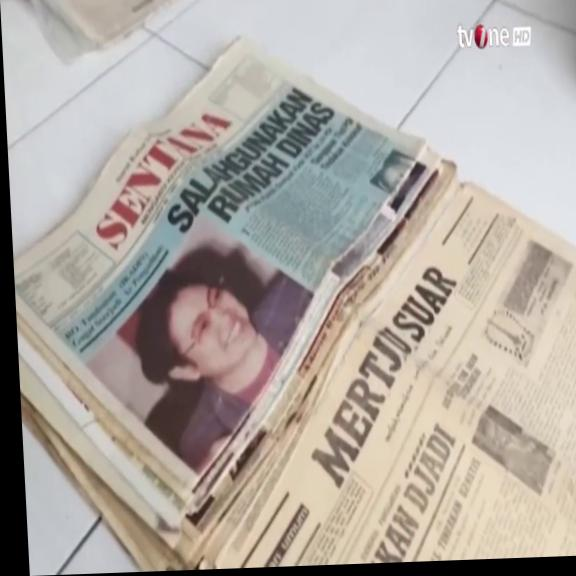Kertas: (14, 38, 576, 571)
